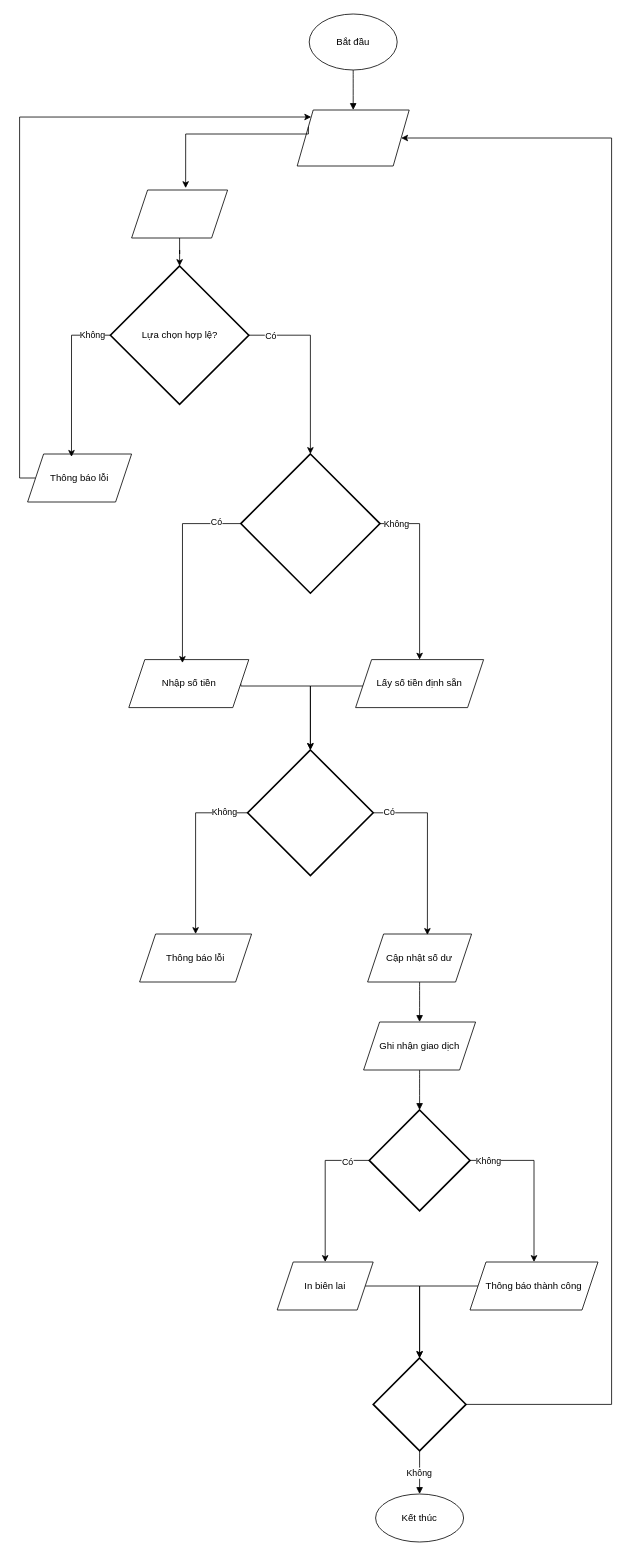
This 632x1556 diagram has some shape labels left out. Here are the shapes that lost their labels. From the top down, the centre of each, then its label:
At (352,137): "Hiển thị menu rút tiền".
At (179,213): "Nhập lựa chọn".
At (310,523): "Số tiền tùy chọn?".
At (310,812): "Số tiền hợp lệ?".
At (419,1160): "In biên lai?".
At (419,1404): "Tiếp tục?".
